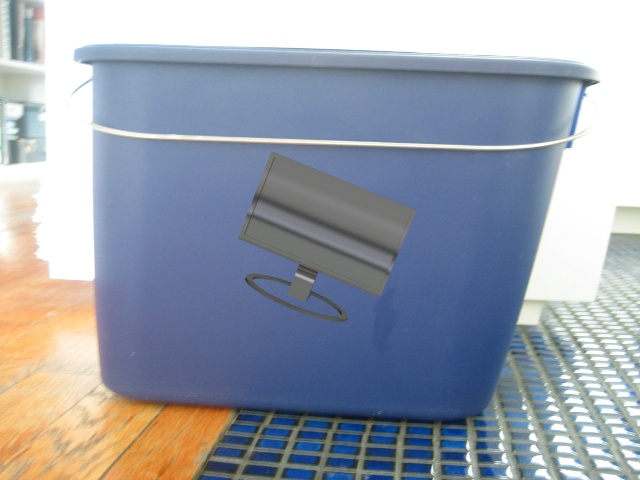monitor: (233, 145, 424, 328)
